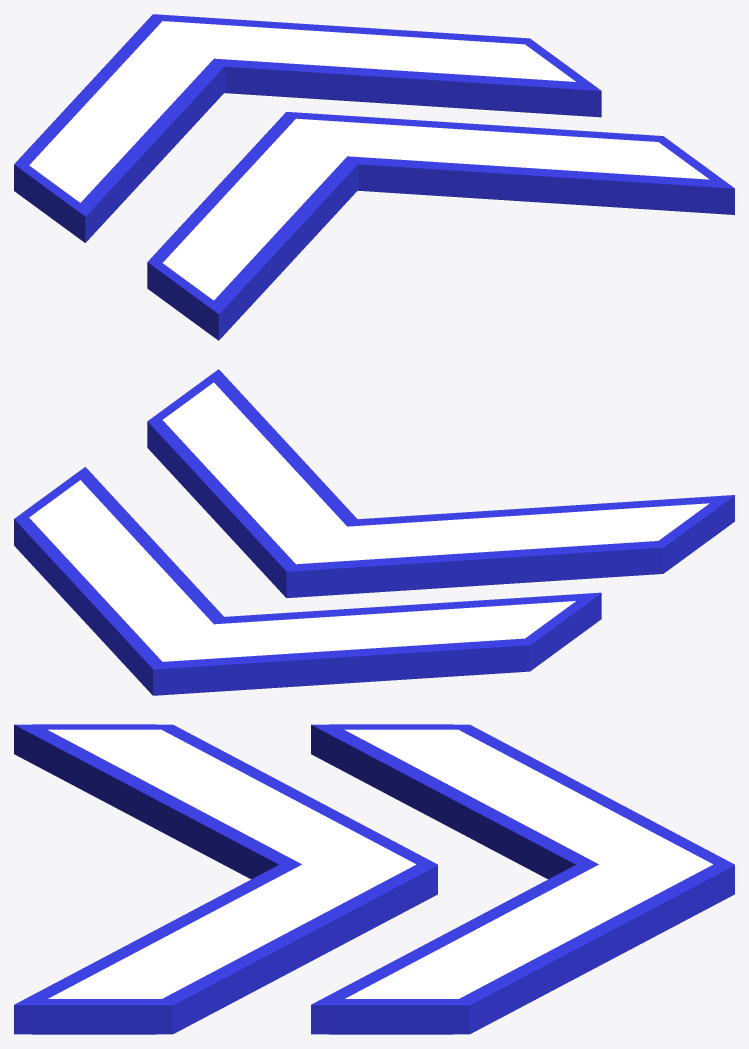
The model's file is guide_arrow0315.glb.
The picture shows the model from 3 angles, top to bottom: view 1: azimuth 30°, elevation 25°; view 2: azimuth 150°, elevation 25°; view 3: azimuth 270°, elevation 25°; orthographic projection. The views are drawn at different scales.
Parts seen in each view (by area): view 1: 立方体; view 2: 立方体; view 3: 立方体.
Part boxes in pixels (x1,y1,x2,y2): 立方体: [14, 14, 734, 340]; 立方体: [14, 369, 734, 695]; 立方体: [14, 724, 734, 1034].
Size of the model in its own units: 1 by 0.05 by 1.09.
